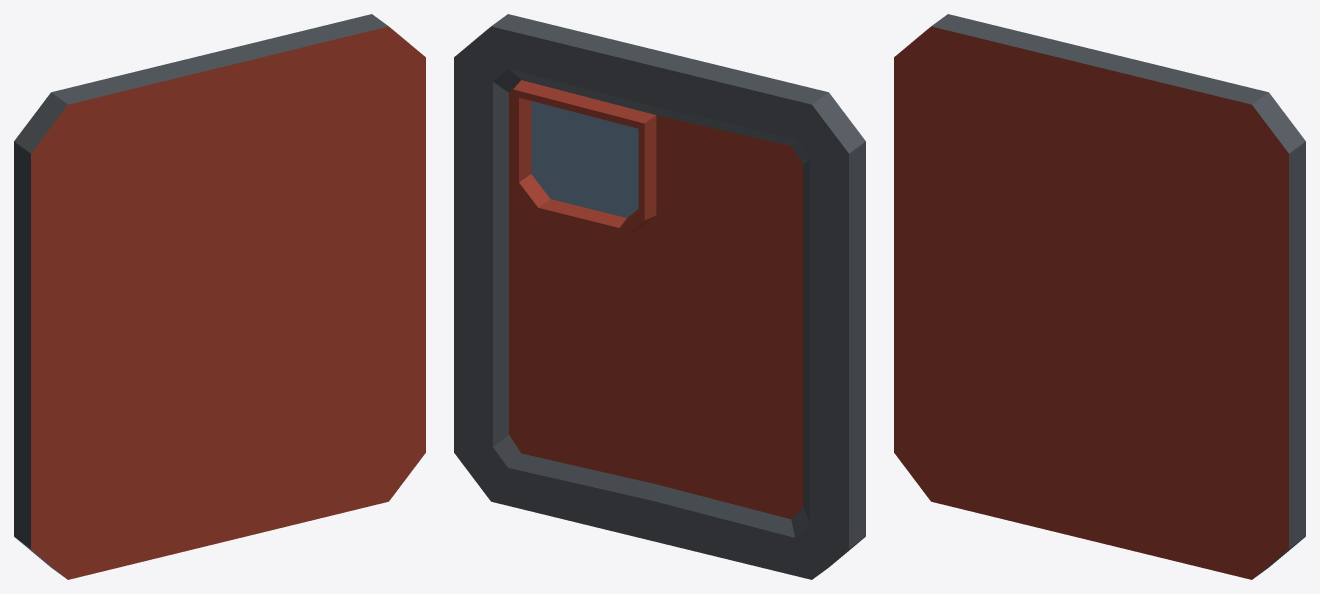
The model's file is Mothership_01_Cargo_Door_Red.fbx.
The picture shows the model from 3 angles, left to right: view 1: azimuth 30°, elevation 25°; view 2: azimuth 150°, elevation 25°; view 3: azimuth 330°, elevation 25°; orthographic projection.
Parts seen in each view (by area): view 1: Mothership_01_Cargo_Door_Red; view 2: Mothership_01_Cargo_Door_Red; view 3: Mothership_01_Cargo_Door_Red.
Boxes of the visible parts, x1=… form: Mothership_01_Cargo_Door_Red: x1=14, y1=14, x2=425, y2=579; Mothership_01_Cargo_Door_Red: x1=454, y1=14, x2=865, y2=579; Mothership_01_Cargo_Door_Red: x1=894, y1=14, x2=1305, y2=579.
Bounding box in the file's own units: 1289 × 1481 × 125.
Materials: 2 (2 with a texture image).
